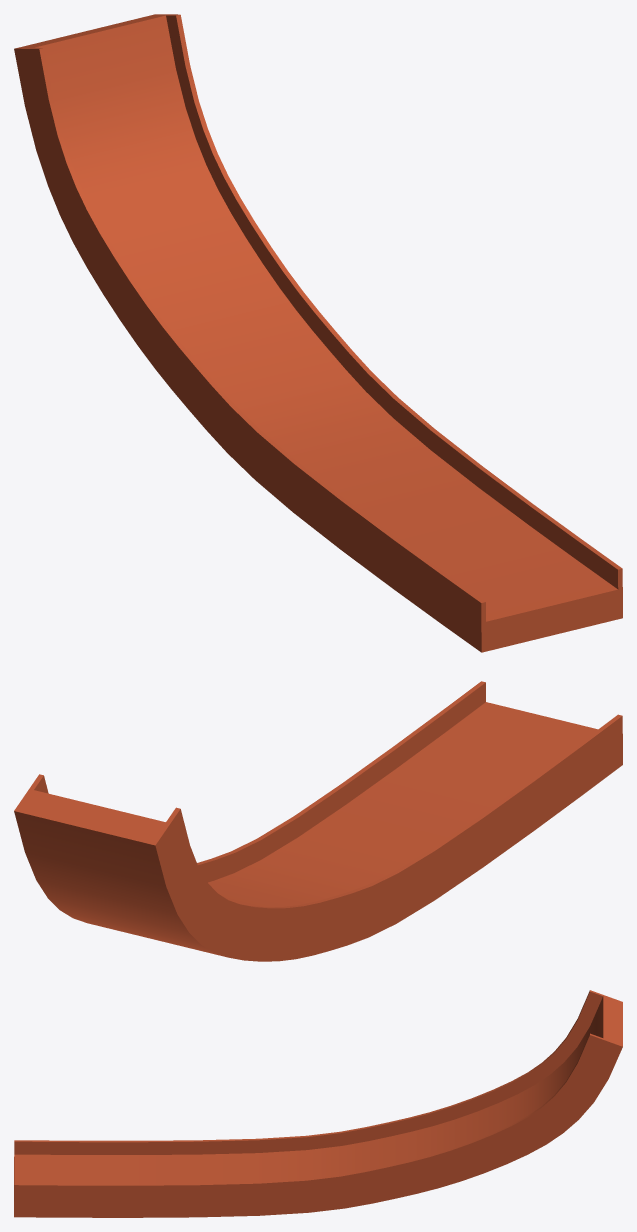
File: Car_Track_Up.fbx
3 views of the same model, one above another, from view 1: azimuth 30°, elevation 25°; view 2: azimuth 150°, elevation 25°; view 3: azimuth 270°, elevation 25° (orthographic). The views are drawn at different scales.
Parts seen in each view (by area): view 1: pCube1; view 2: pCube1; view 3: pCube1.
Part boxes in pixels (box(x1,y1,x2,y2)): pCube1: box(14, 14, 622, 652); pCube1: box(14, 681, 622, 961); pCube1: box(14, 990, 622, 1217).
Size of the model in its own units: 1 by 1.9 by 5.73.
